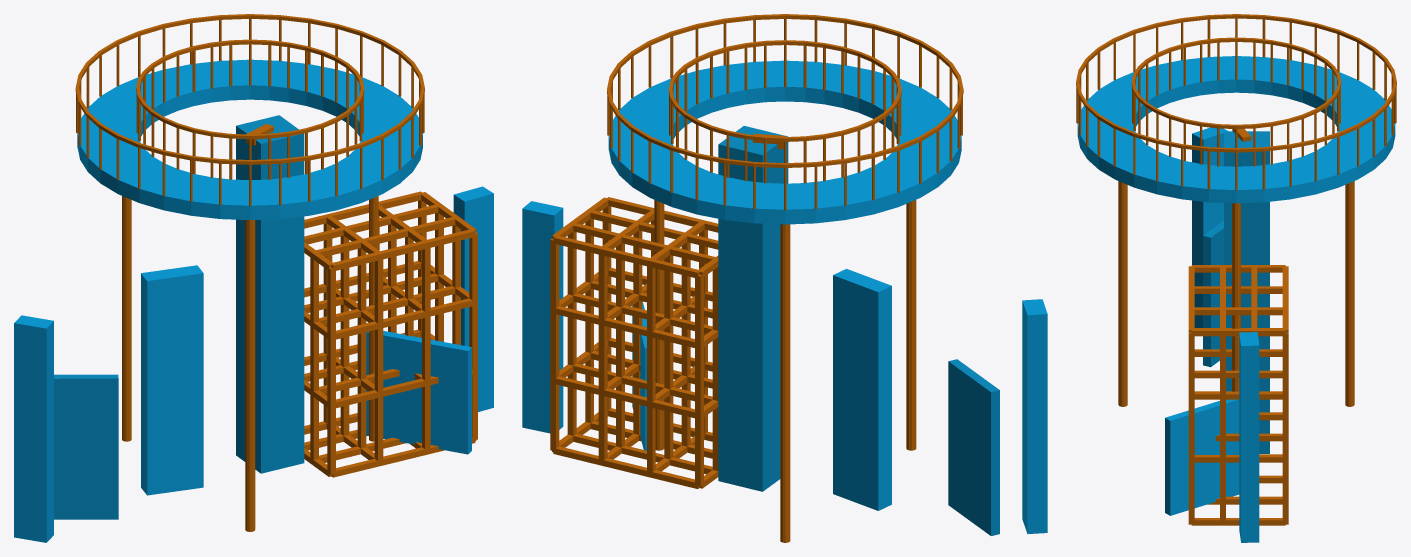
The model's file is folie_tag_144.glb.
3 views of the same model, side by side, from view 1: azimuth 30°, elevation 25°; view 2: azimuth 150°, elevation 25°; view 3: azimuth 270°, elevation 25° (orthographic). The views are drawn at different scales.
Parts seen in each view (by area): view 1: folie_tag_144_01_cage, folie_tag_144_00_ring, folie_tag_144_line, folie_tag_144_core, folie_tag_144_02_fin, folie_tag_144_05_panel, folie_tag_144_03_fin, folie_tag_144_06_panel, folie_tag_144_04_fin; view 2: folie_tag_144_01_cage, folie_tag_144_00_ring, folie_tag_144_line, folie_tag_144_core, folie_tag_144_02_fin, folie_tag_144_05_panel, folie_tag_144_04_fin, folie_tag_144_03_fin, folie_tag_144_06_panel; view 3: folie_tag_144_00_ring, folie_tag_144_line, folie_tag_144_01_cage, folie_tag_144_core, folie_tag_144_06_panel, folie_tag_144_04_fin, folie_tag_144_03_fin, folie_tag_144_05_panel.
Part boxes in pixels (x1,y1,x2,y2): folie_tag_144_01_cage: (304, 191, 477, 477); folie_tag_144_00_ring: (77, 59, 422, 220); folie_tag_144_line: (75, 14, 424, 531); folie_tag_144_core: (236, 115, 304, 473); folie_tag_144_02_fin: (141, 265, 203, 495); folie_tag_144_05_panel: (54, 374, 118, 519); folie_tag_144_03_fin: (14, 315, 53, 542); folie_tag_144_06_panel: (366, 331, 471, 454); folie_tag_144_04_fin: (453, 186, 493, 411); folie_tag_144_01_cage: (550, 197, 718, 488); folie_tag_144_00_ring: (608, 60, 961, 224); folie_tag_144_line: (607, 14, 963, 542); folie_tag_144_core: (718, 126, 788, 491); folie_tag_144_02_fin: (833, 269, 891, 510); folie_tag_144_05_panel: (948, 359, 999, 535); folie_tag_144_04_fin: (522, 201, 563, 433); folie_tag_144_03_fin: (1022, 299, 1047, 534); folie_tag_144_06_panel: (632, 301, 646, 450); folie_tag_144_00_ring: (1077, 56, 1395, 203); folie_tag_144_line: (1076, 14, 1396, 406); folie_tag_144_01_cage: (1188, 265, 1288, 525); folie_tag_144_core: (1224, 131, 1269, 453); folie_tag_144_06_panel: (1165, 399, 1239, 515); folie_tag_144_04_fin: (1239, 332, 1259, 542); folie_tag_144_03_fin: (1192, 127, 1227, 327); folie_tag_144_05_panel: (1203, 220, 1223, 367).
Size of the model in its own units: 12.51 by 9.34 by 7.68.
